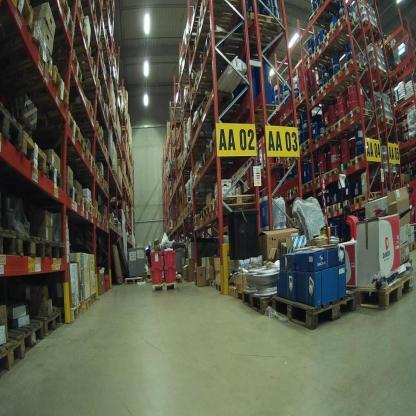pallets: (0, 107, 92, 211), (0, 306, 66, 379), (182, 186, 264, 229), (306, 104, 371, 156), (269, 292, 354, 330), (297, 153, 367, 193), (304, 59, 363, 106), (0, 227, 68, 262), (350, 274, 414, 310), (323, 188, 374, 221), (234, 289, 274, 315), (150, 281, 176, 291), (122, 276, 145, 284)
